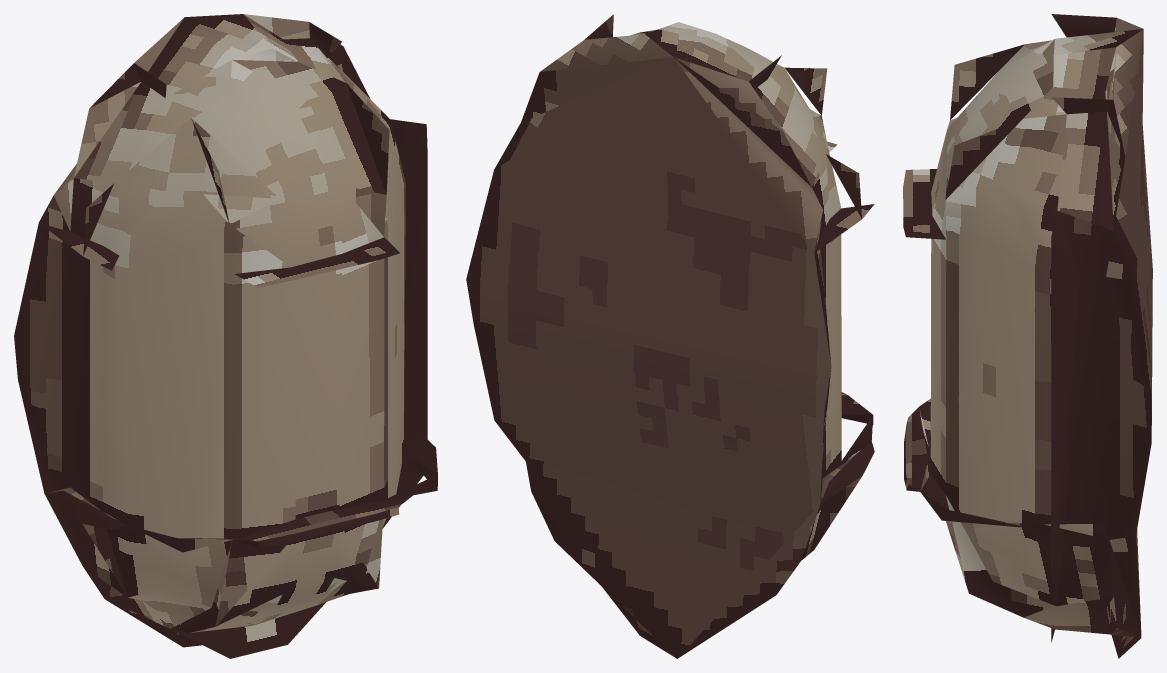
The model's file is industrial_wall_lamp.glb.
The picture shows the model from 3 angles, left to right: view 1: azimuth 30°, elevation 25°; view 2: azimuth 150°, elevation 25°; view 3: azimuth 270°, elevation 25°; orthographic projection. The views are drawn at different scales.
Visible parts, largest first — view 1: mesh; view 2: mesh; view 3: mesh.
Boxes of the visible parts, x1,y1,x2,y2 form: mesh: (14,14,437,658); mesh: (466,14,874,658); mesh: (903,14,1152,658).
Bounding box in the file's own units: 0.271 × 0.4299 × 0.1588.
1 material, 1 textured.
